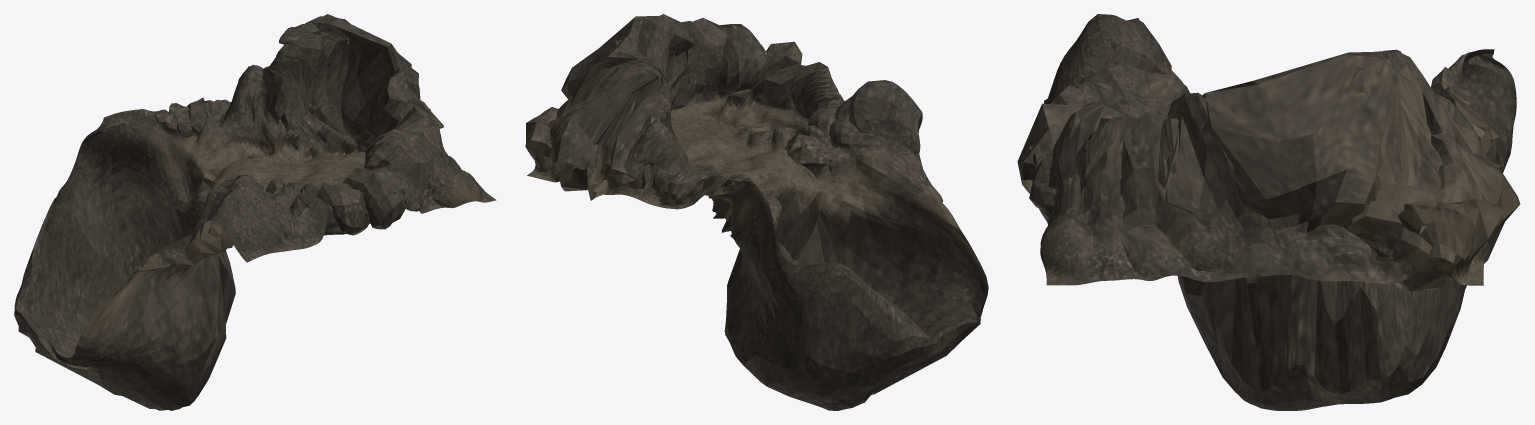
Rendered from world1.glb.
3 views of the same model, side by side, from view 1: azimuth 30°, elevation 25°; view 2: azimuth 150°, elevation 25°; view 3: azimuth 270°, elevation 25° (orthographic). The views are drawn at different scales.
Visible parts, largest first — view 1: Plane -col; view 2: Plane -col; view 3: Plane -col.
Part boxes in pixels (x1,y1,x2,y2): Plane -col: (14, 14, 496, 410); Plane -col: (525, 14, 988, 410); Plane -col: (1017, 14, 1520, 410).
Bounding box in the file's own units: 3.16 × 2.51 × 2.3.
1 material, 1 textured.
